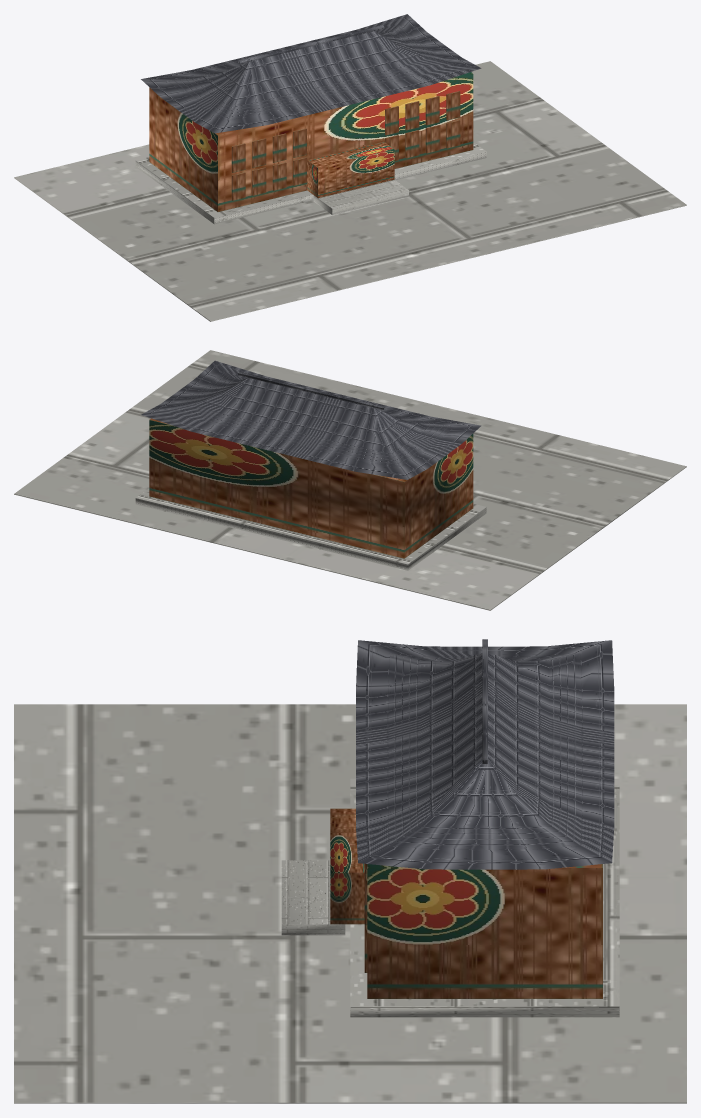
3 views of the same model, one above another, from view 1: azimuth 30°, elevation 25°; view 2: azimuth 150°, elevation 25°; view 3: azimuth 270°, elevation 25° (orthographic). The views are drawn at different scales.
Visible parts, largest first — view 1: 11140_02_04519_009_01_L2__plinth, 11140_02_04519_009_02_L2__body, 11140_02_04519_009_03_L2__roof, 11140_02_04519_009_05_L2__windows; view 2: 11140_02_04519_009_01_L2__plinth, 11140_02_04519_009_02_L2__body, 11140_02_04519_009_03_L2__roof; view 3: 11140_02_04519_009_01_L2__plinth, 11140_02_04519_009_03_L2__roof, 11140_02_04519_009_02_L2__body.
Part boxes in pixels (bbox=[...]): 11140_02_04519_009_01_L2__plinth: bbox=[14, 61, 686, 321]; 11140_02_04519_009_02_L2__body: bbox=[149, 72, 473, 211]; 11140_02_04519_009_03_L2__roof: bbox=[141, 14, 481, 133]; 11140_02_04519_009_05_L2__windows: bbox=[231, 91, 460, 200]; 11140_02_04519_009_01_L2__plinth: bbox=[14, 350, 686, 610]; 11140_02_04519_009_02_L2__body: bbox=[149, 418, 473, 558]; 11140_02_04519_009_03_L2__roof: bbox=[141, 360, 481, 479]; 11140_02_04519_009_01_L2__plinth: bbox=[14, 704, 686, 1103]; 11140_02_04519_009_03_L2__roof: bbox=[356, 639, 614, 869]; 11140_02_04519_009_02_L2__body: bbox=[330, 808, 602, 998].
Bounding box in the file's own units: 56 × 13.44 × 40.
Materials: 5 (5 with a texture image).
